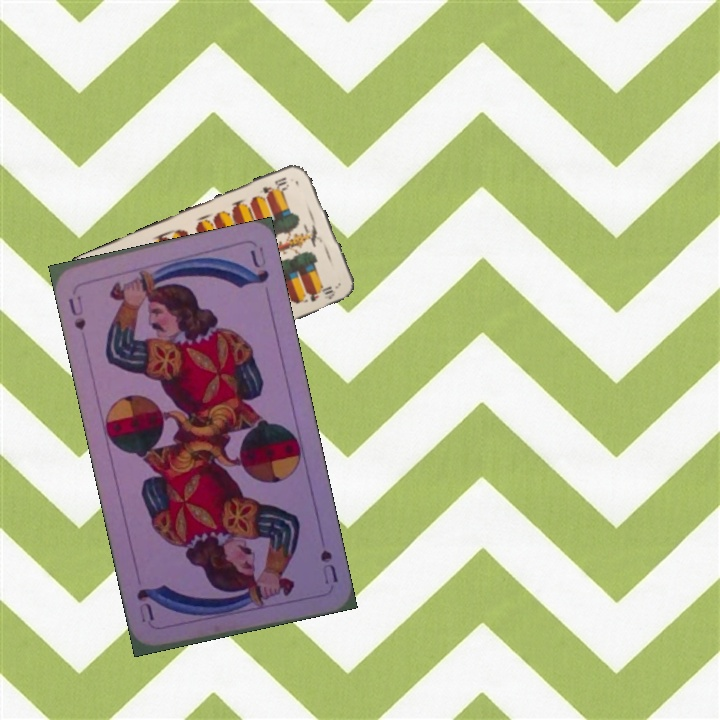E10: (258, 173, 291, 198)
SU: (64, 291, 89, 333), (316, 546, 341, 587)
